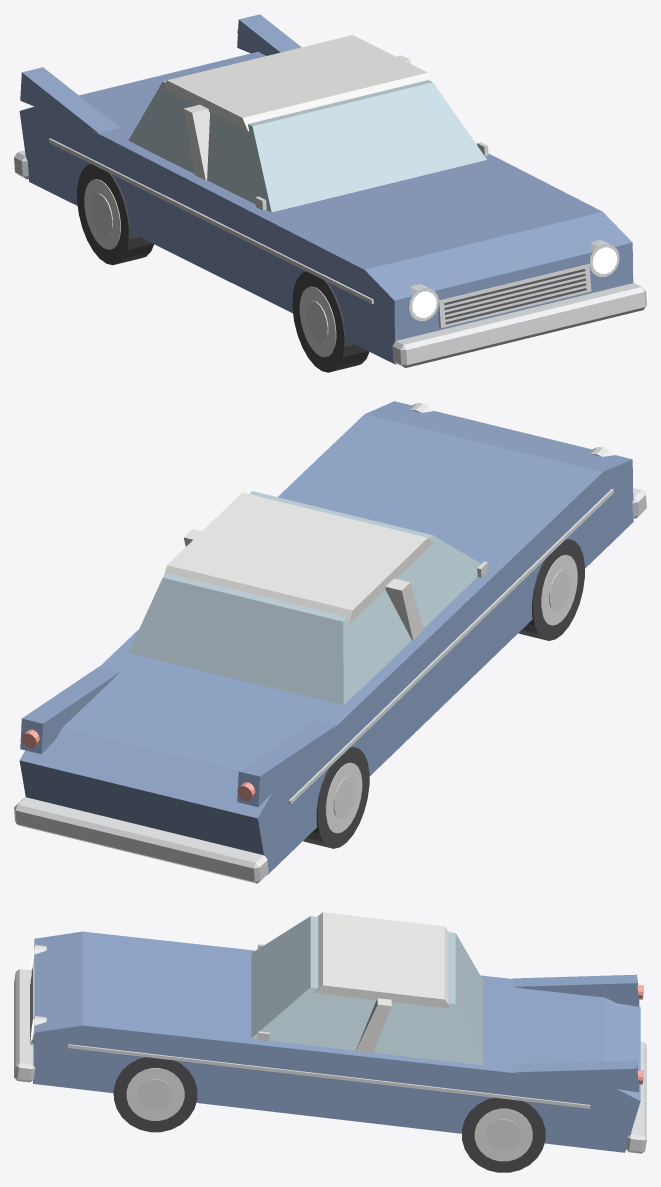
The model's file is car_d.glb.
3 renders of one model, top to bottom at view 1: azimuth 30°, elevation 25°; view 2: azimuth 150°, elevation 25°; view 3: azimuth 270°, elevation 25°, orthographic. The views are drawn at different scales.
Parts seen in each view (by area): view 1: car_d_car_d, car_d_glass, car_d_chrome, car_d_car_w, car_d_rubber, car_d_paint_w, car_d_dark, car_d_lamp_glass; view 2: car_d_car_d, car_d_glass, car_d_car_w, car_d_chrome, car_d_rubber, car_d_paint_w; view 3: car_d_car_d, car_d_glass, car_d_car_w, car_d_chrome, car_d_rubber, car_d_paint_w.
Boxes of the visible parts, x1,y1,x2,y2 form: car_d_car_d: (19, 14, 633, 364); car_d_glass: (128, 80, 486, 212); car_d_chrome: (14, 138, 646, 367); car_d_car_w: (163, 35, 431, 180); car_d_rubber: (77, 164, 369, 372); car_d_paint_w: (84, 179, 336, 357); car_d_dark: (444, 269, 586, 324); car_d_lamp_glass: (412, 247, 617, 317); car_d_car_d: (19, 401, 633, 875); car_d_glass: (128, 491, 480, 705); car_d_car_w: (164, 492, 433, 640); car_d_chrome: (14, 403, 646, 883); car_d_rubber: (303, 539, 584, 848); car_d_paint_w: (325, 555, 577, 833); car_d_car_d: (33, 931, 640, 1152); car_d_glass: (251, 916, 483, 1064); car_d_car_w: (313, 912, 451, 1053); car_d_chrome: (14, 944, 646, 1153); car_d_rubber: (113, 1057, 545, 1172); car_d_paint_w: (126, 1068, 532, 1161).
Bounding box in the file's own units: 1.96 × 1.66 × 5.41.
